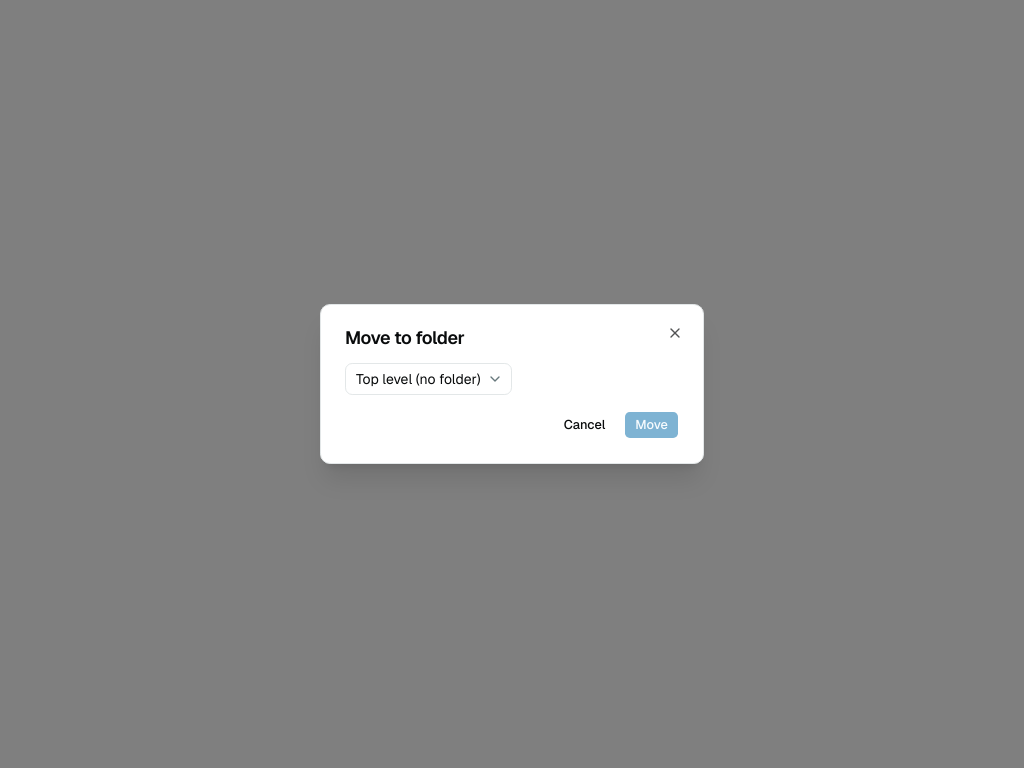
folder pickers (BI-18 part C review fix (SHOULD-FIX) R17) › lists the personal space first, labelled as only yours, then no folder, then the shared folders
This screenshot has width=1024, height=768.
Click the dropdown: (428, 379) [345,363,512,395]
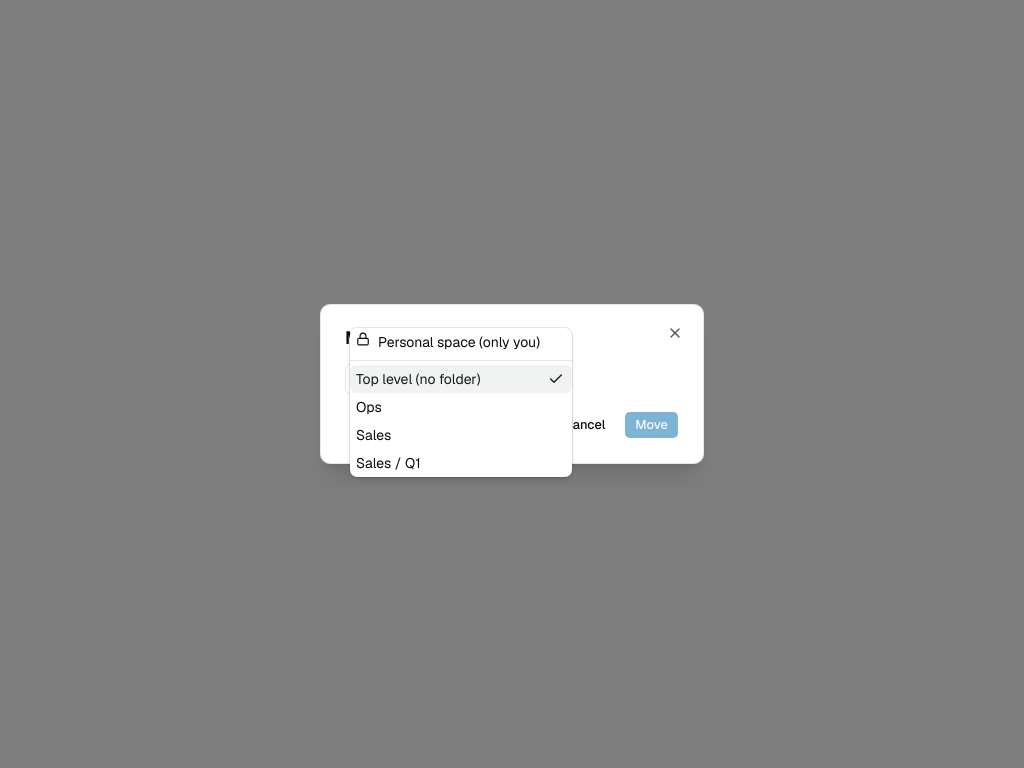
Result: the options read "Personal space (only you)", "Top level (no folder)", "Ops", "Sales", "Sales / Q1", in this order at [356,332,540,351]; [350,365,572,393]; [356,398,382,416]; [356,426,391,444]; [356,454,421,472]
Result: the element showing "Personal space (only you)" is shown at [356,332,540,352]
